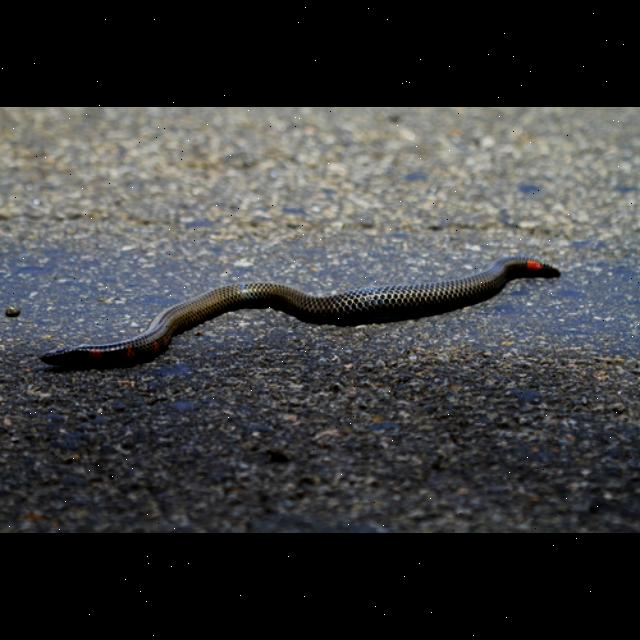snake: (2, 106, 538, 232)
